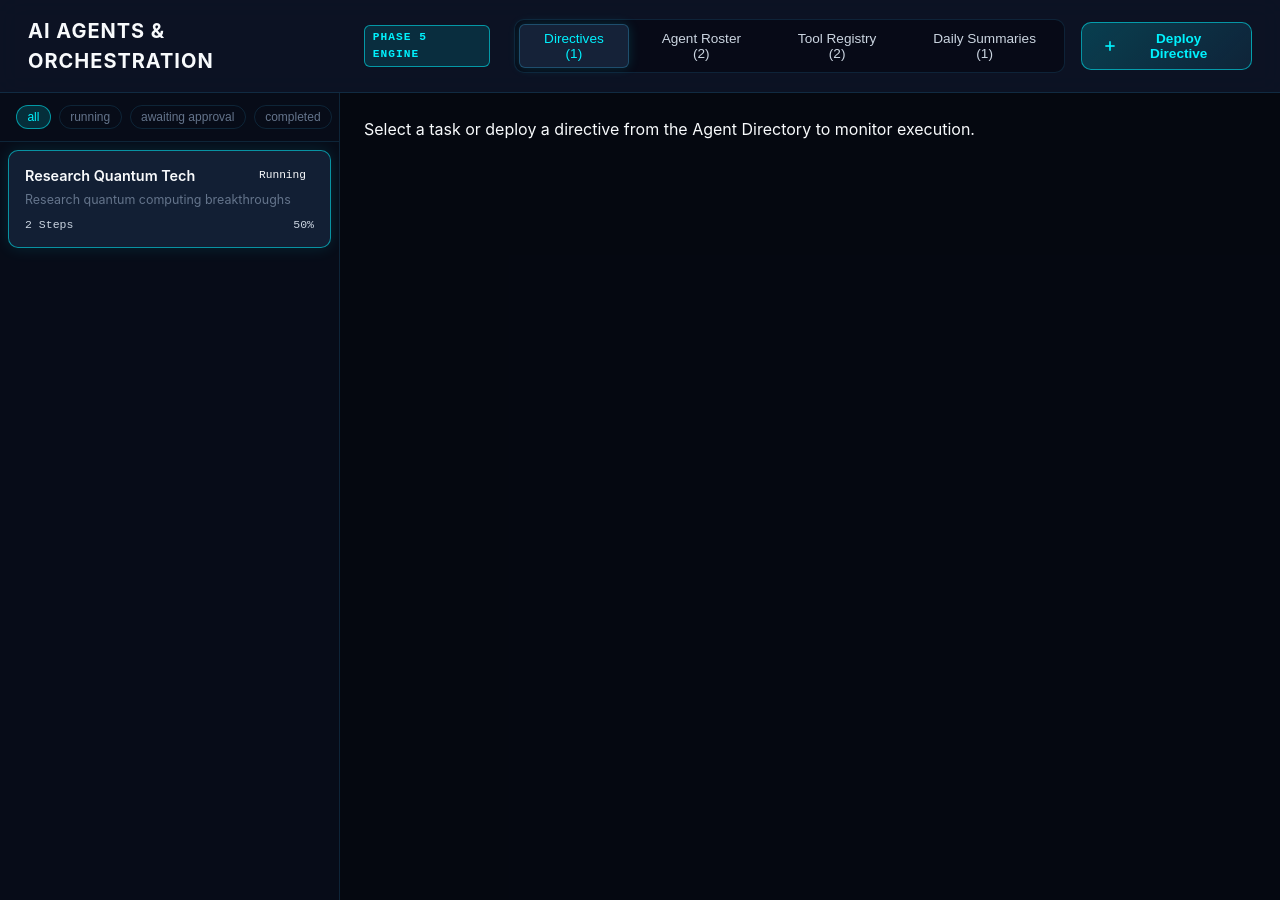
Test case: Phase 5 Agent Workspace Components › AgentWorkspace loads and toggles between tabs including Daily Summaries
The image size is (1280, 900).
Check: the text "AI AGENTS & ORCHESTRATION" is shown, box [28,19,214,73]
Note: Switch to Agent Roster
Click the button "Agent Roster (2)" at (701, 46), box [637,24,765,68]
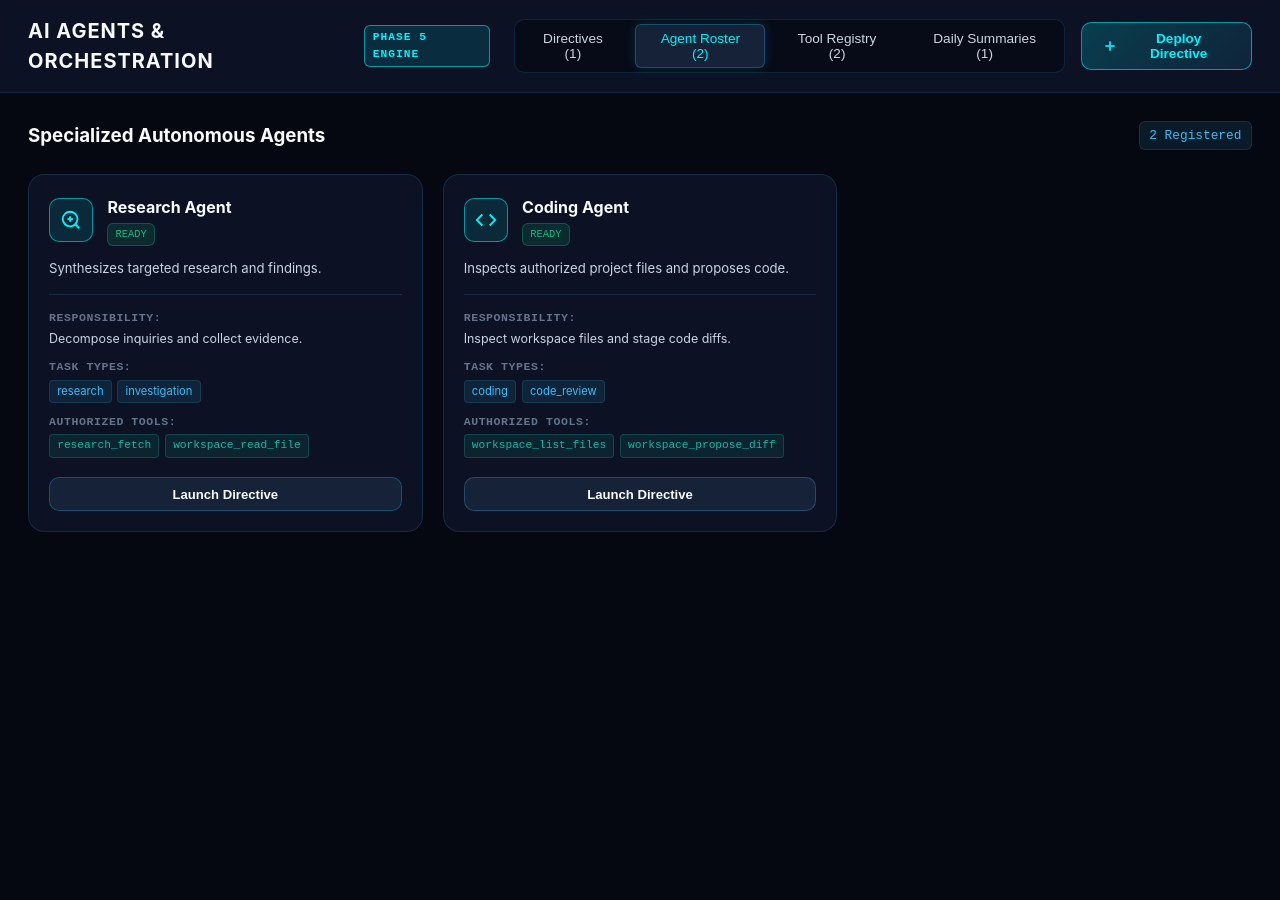
Check: the heading "Research Agent" is shown, box [107,195,232,219]
Note: Switch to Tool Registry
Click the button "Tool Registry (2)" at (837, 46), box [773,24,901,68]
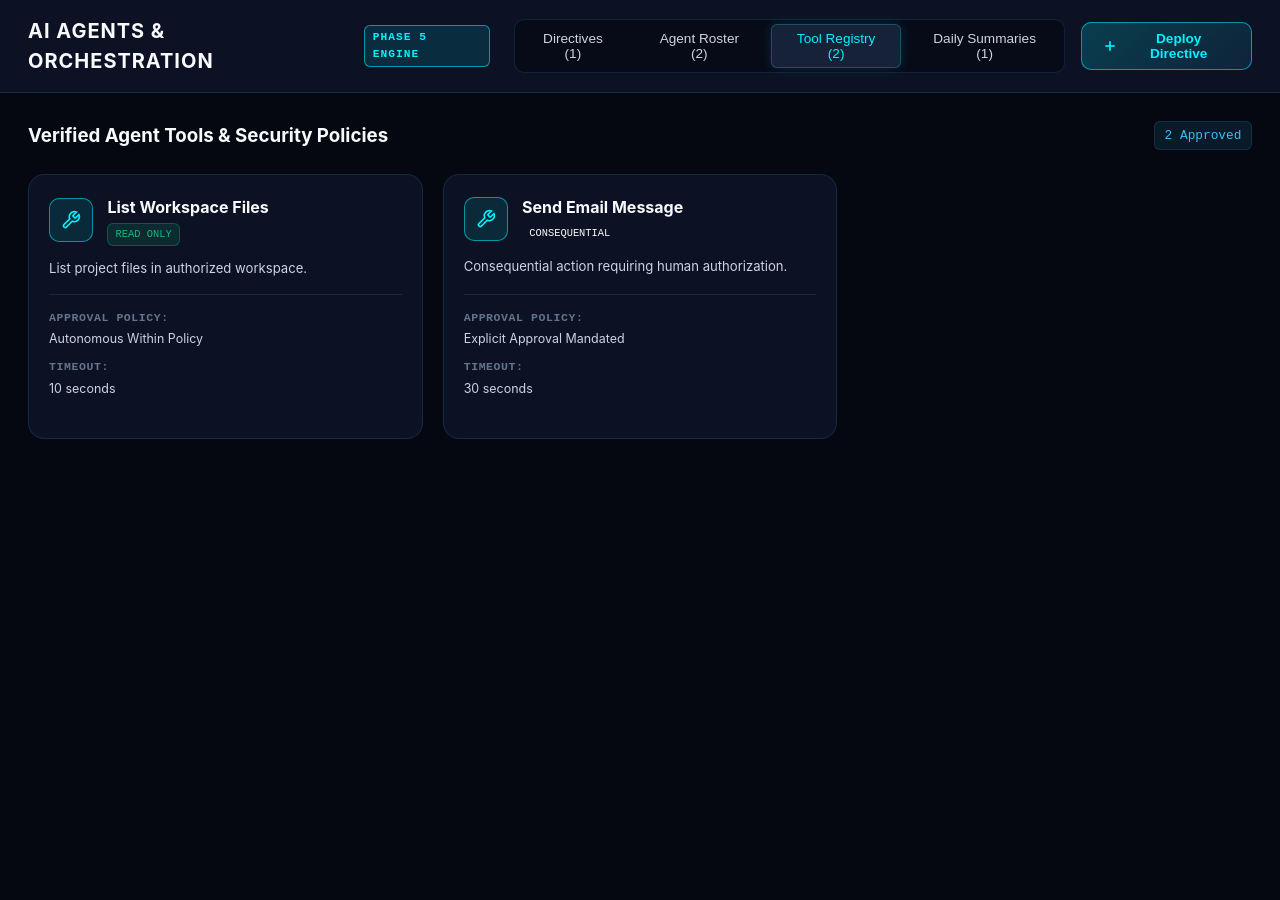
Check: the heading "List Workspace Files" is shown, box [107,195,269,219]
Check: the heading "Send Email Message" is shown, box [522,195,683,219]
Note: Switch to Daily Summaries
Click the button "Daily Summaries (1)" at (985, 46), box [909,24,1060,68]
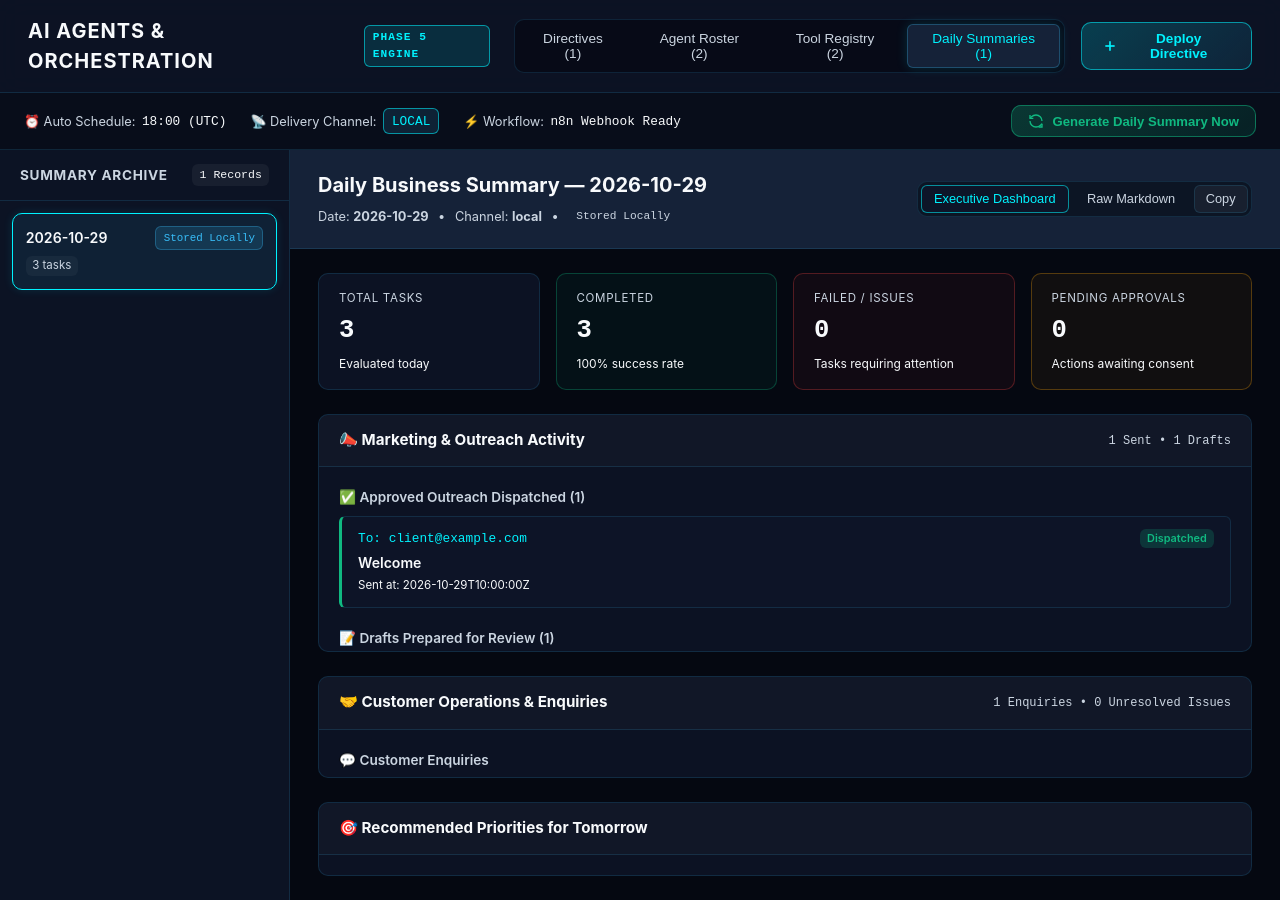
Check: the heading "Daily Business Summary — 2026-10-29" is shown, box [318,170,707,200]
Check: the heading "✅ Approved Outreach Dispatched (1)" is shown, box [339,489,585,505]
